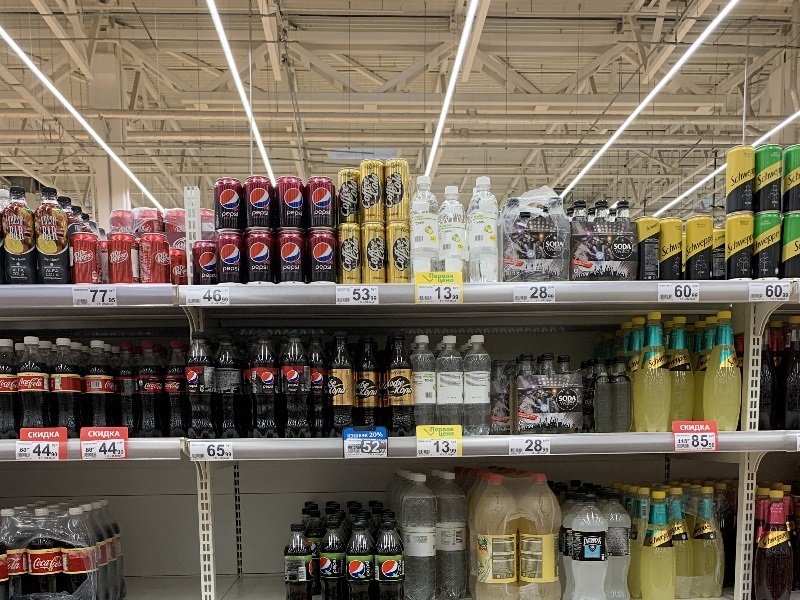lemonade: (274, 326, 314, 446), (176, 332, 218, 445), (243, 328, 282, 444), (50, 334, 88, 443), (321, 327, 357, 442), (381, 329, 417, 441), (13, 332, 48, 439)
